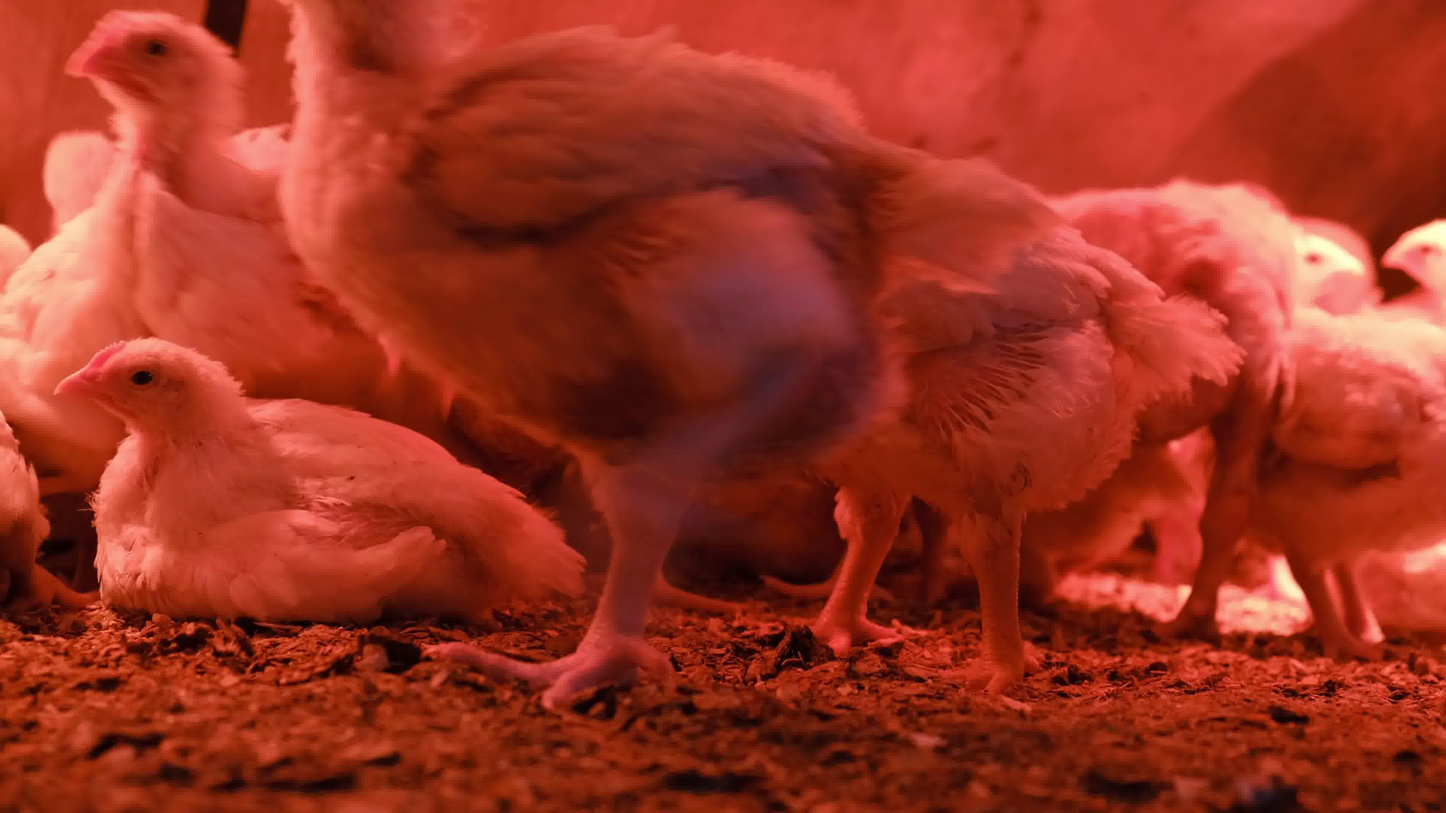AbNormal: (49, 329, 595, 619)
Normal: (265, 2, 877, 745), (855, 117, 1196, 691), (1069, 164, 1354, 578), (56, 0, 324, 341), (1282, 260, 1446, 681), (1256, 192, 1408, 295), (19, 120, 162, 209), (1371, 215, 1446, 337)
